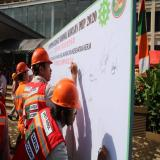Helmet: (52, 78, 84, 116), (31, 46, 53, 66), (17, 62, 29, 74), (12, 72, 16, 80)
